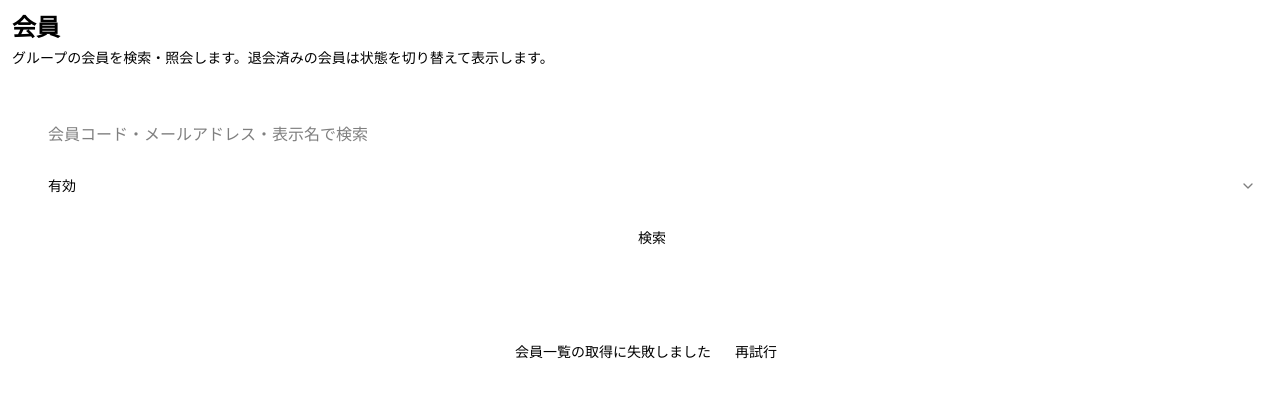
it: 取得に失敗したら一覧の領域で名乗り、再試行できる
Check: the message shows "会員一覧の取得に失敗しました", box [515,343,711,360]
Click the button "再試行" at x=756, y=352, box [723,336,789,368]
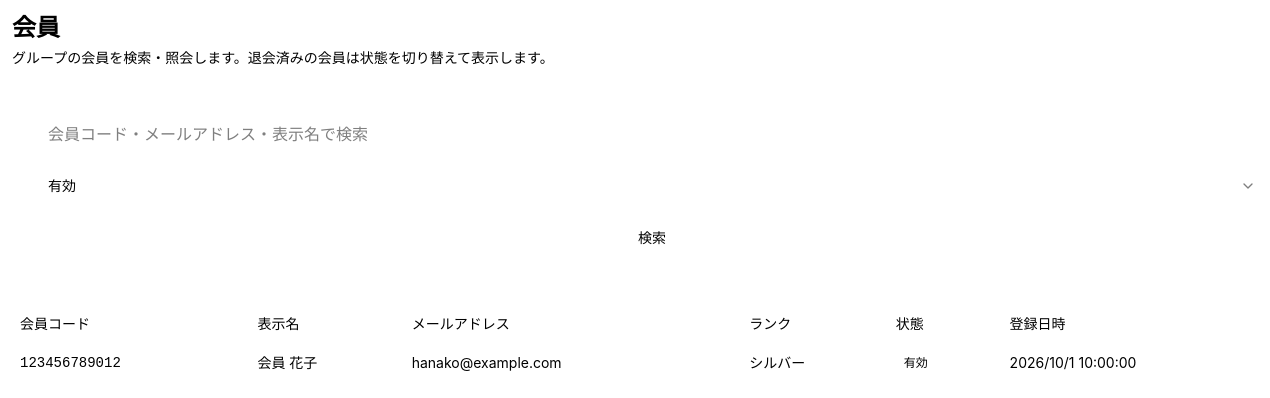
Check: the text "会員 花子" is shown, box [250,344,404,381]
